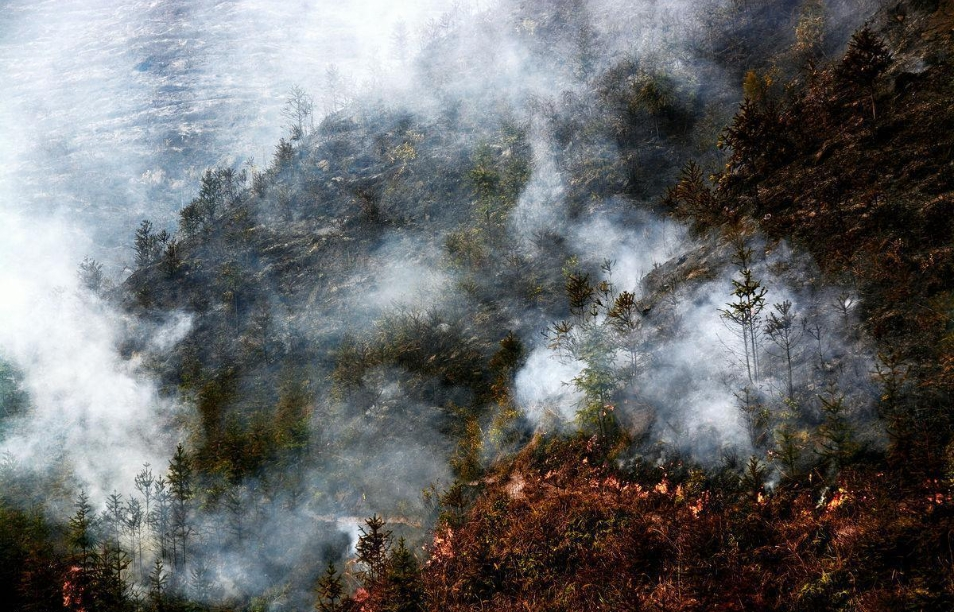山火: (465, 466, 582, 516), (603, 477, 711, 519), (418, 524, 457, 567), (59, 564, 85, 611), (923, 477, 954, 513), (823, 486, 853, 513), (349, 585, 373, 612), (755, 490, 766, 505)
烟雾: (0, 0, 954, 612)
